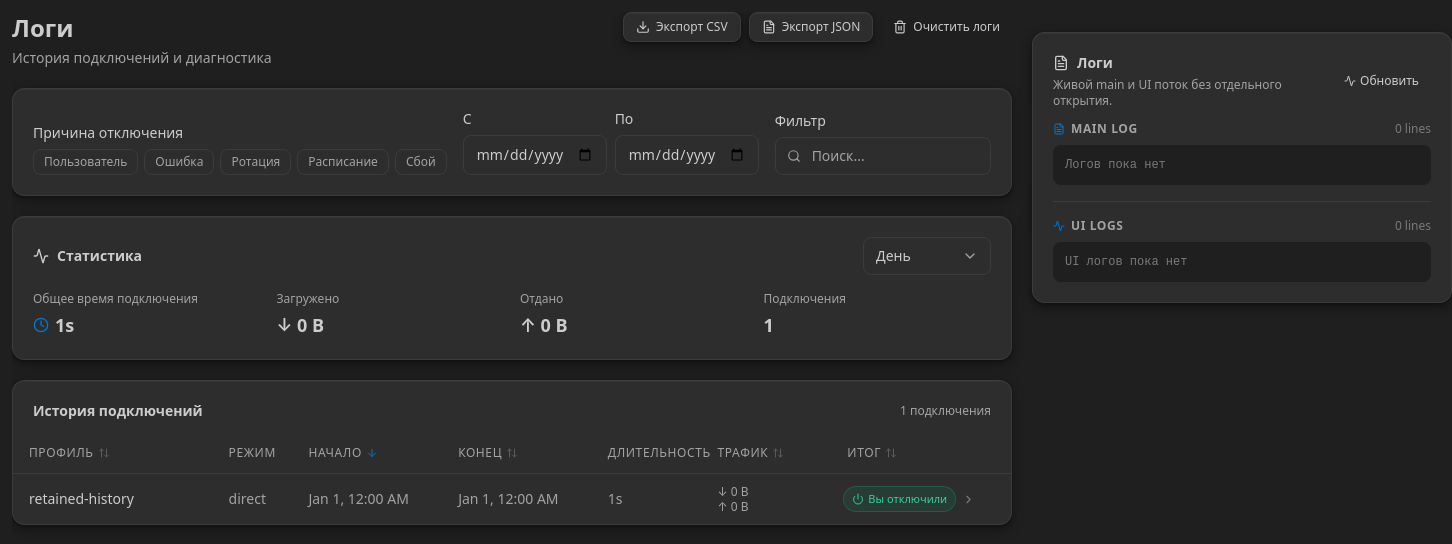
Test case: Logs cleanup › shows success only after all cleanup completed
The width and height of the screenshot is (1452, 544).
Expected: the text "retained-history" is shown, [13,474,213,524]
Click the button "Очистить логи".
click(947, 27)  # box [881,12,1012,42]
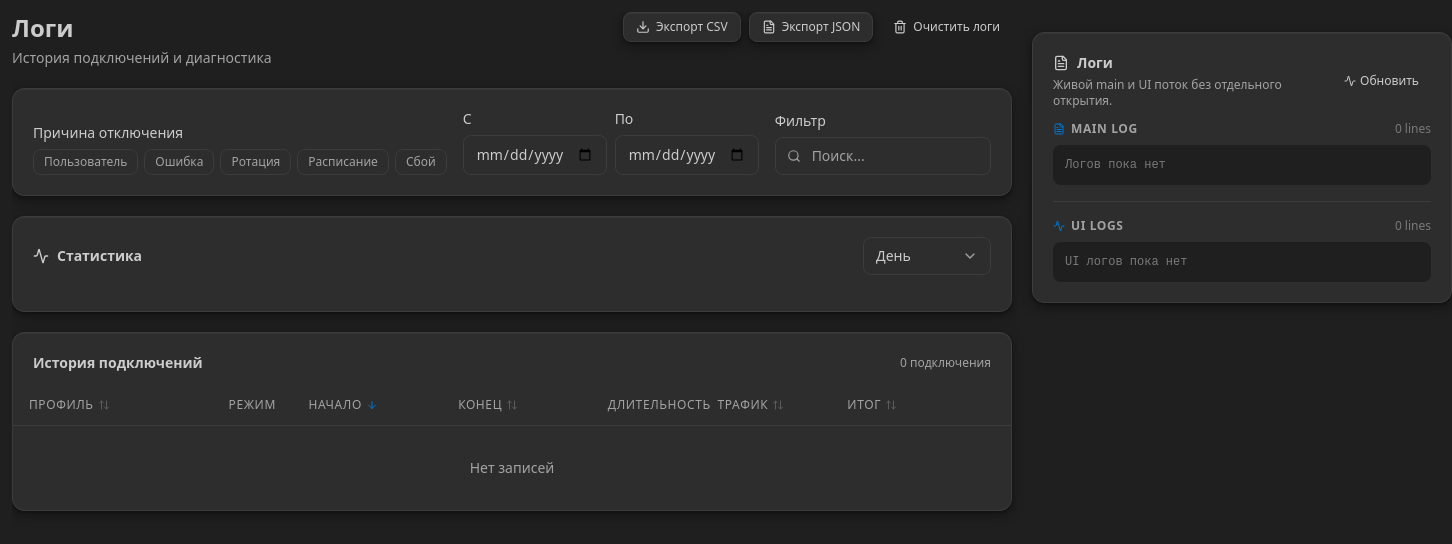
Now the text "retained-history" is gone
